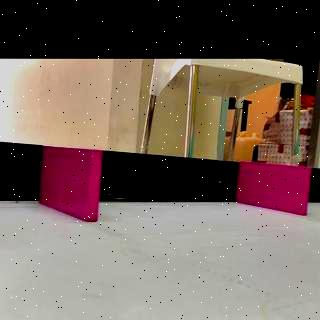xparking: (44, 152, 101, 222), (239, 167, 311, 211)
